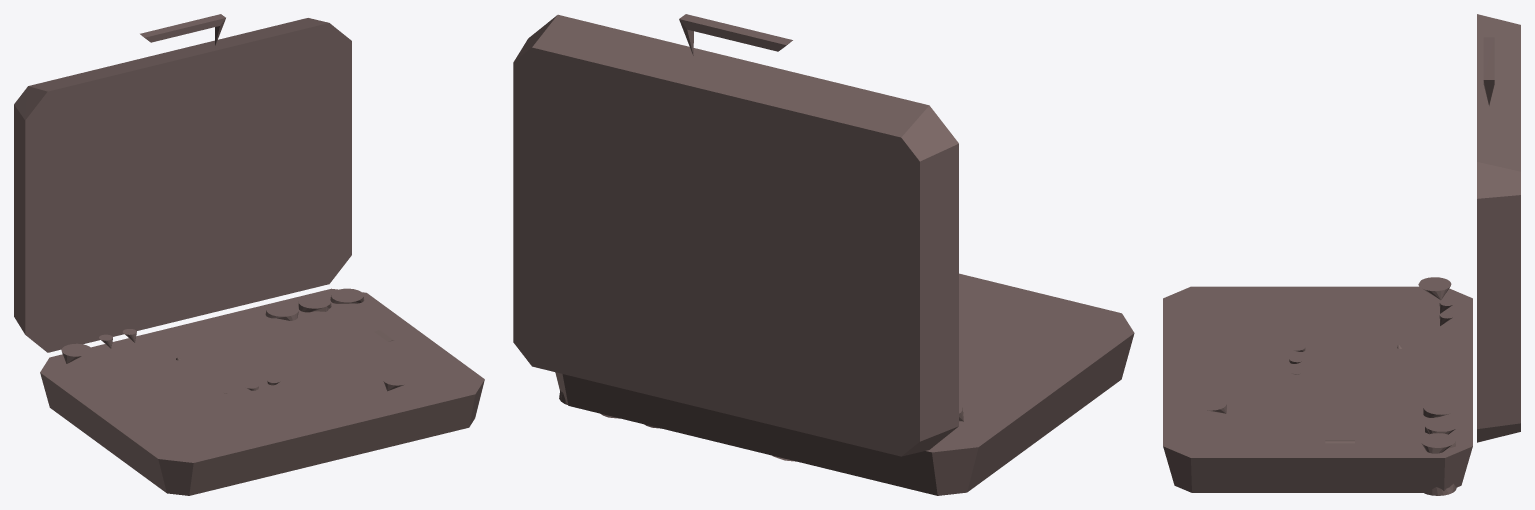
File: first-aid-box.lod2.glb
3 renders of one model, left to right at view 1: azimuth 30°, elevation 25°; view 2: azimuth 150°, elevation 25°; view 3: azimuth 270°, elevation 25°, orthographic. The views are drawn at different scales.
Parts seen in each view (by area): view 1: MetalCover_standardSurface15_0; view 2: MetalCover_standardSurface15_0; view 3: MetalCover_standardSurface15_0.
Boxes of the visible parts, <box> form: MetalCover_standardSurface15_0: <box>14,14,484,495</box>; MetalCover_standardSurface15_0: <box>513,14,1134,495</box>; MetalCover_standardSurface15_0: <box>1163,14,1520,495</box>.
Bounding box in the file's own units: 0.6 × 0.5857 × 0.5295.
